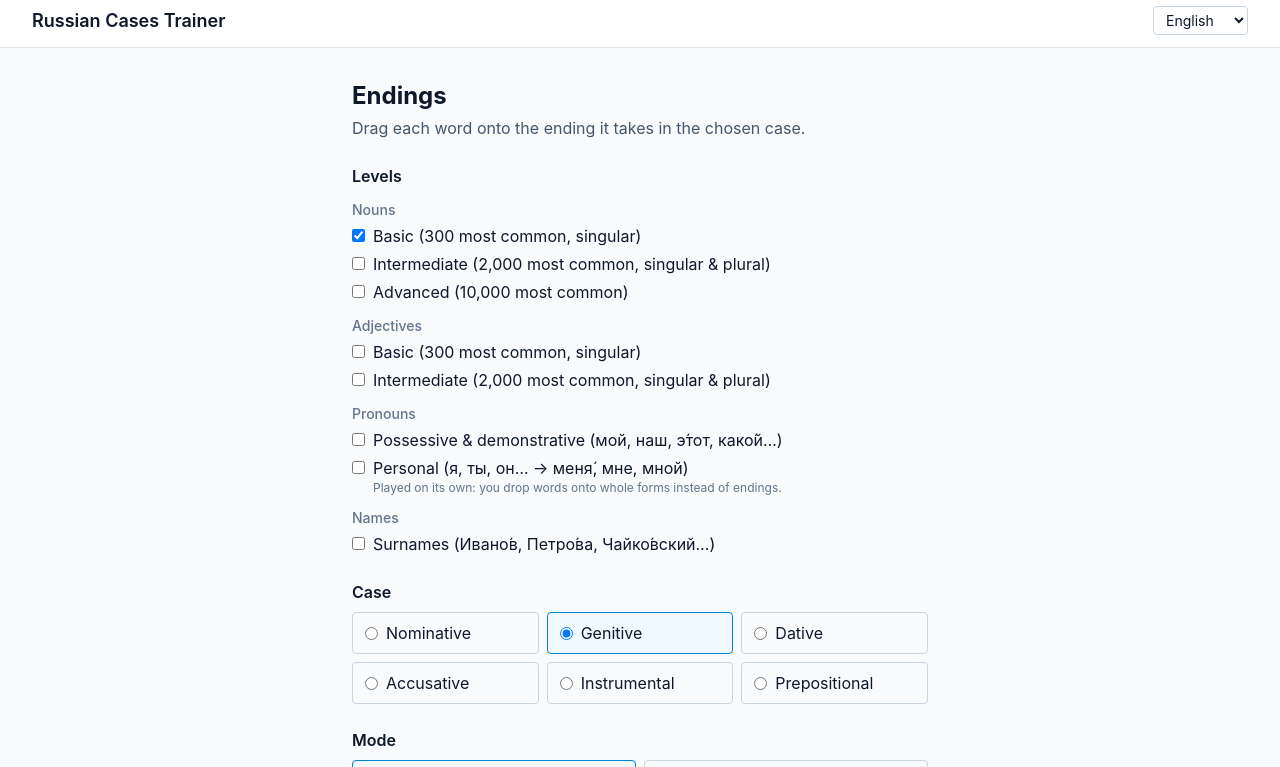
Test: pronunciation › muting silences everything and is remembered
Step 1. Click the radio button labelled "Instrumental" → (566, 683), box [560,676,573,690]
(page scrolled)
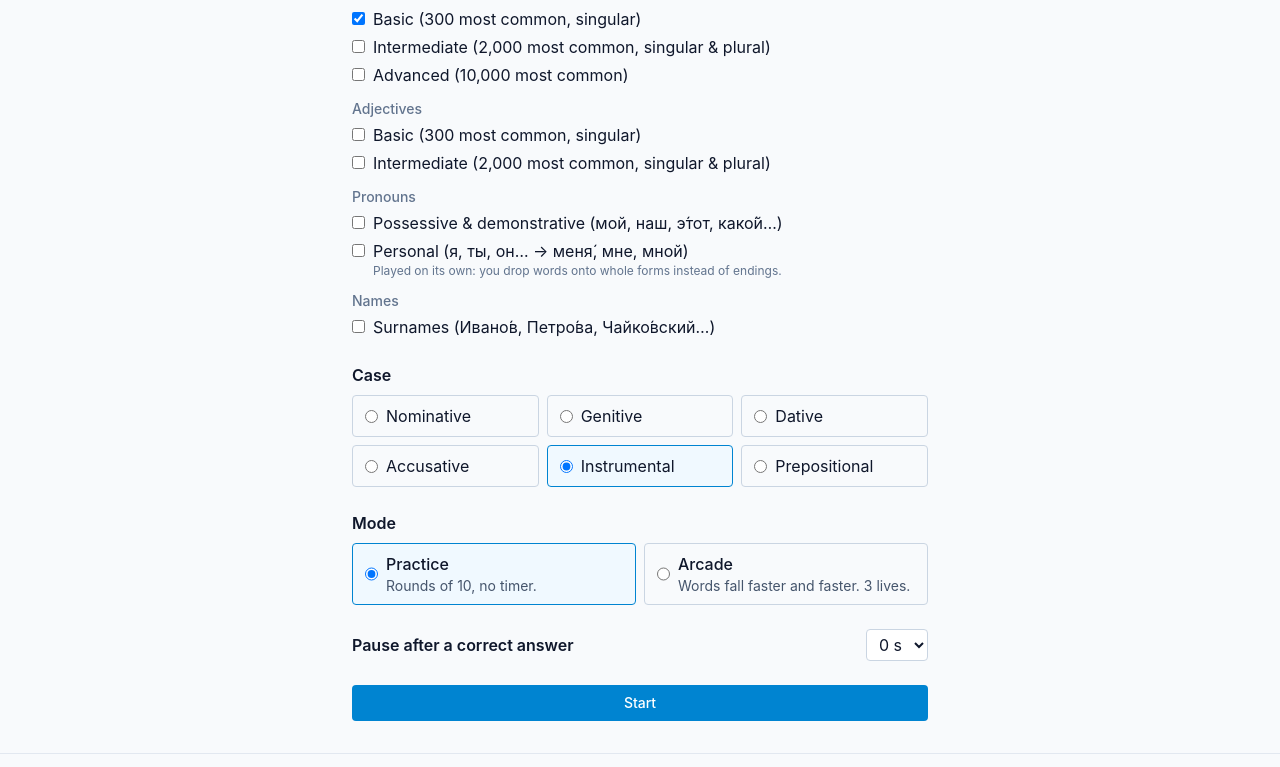
Step 2. Click the button "Start" → (640, 703), box [352,685,928,721]
(page scrolled)
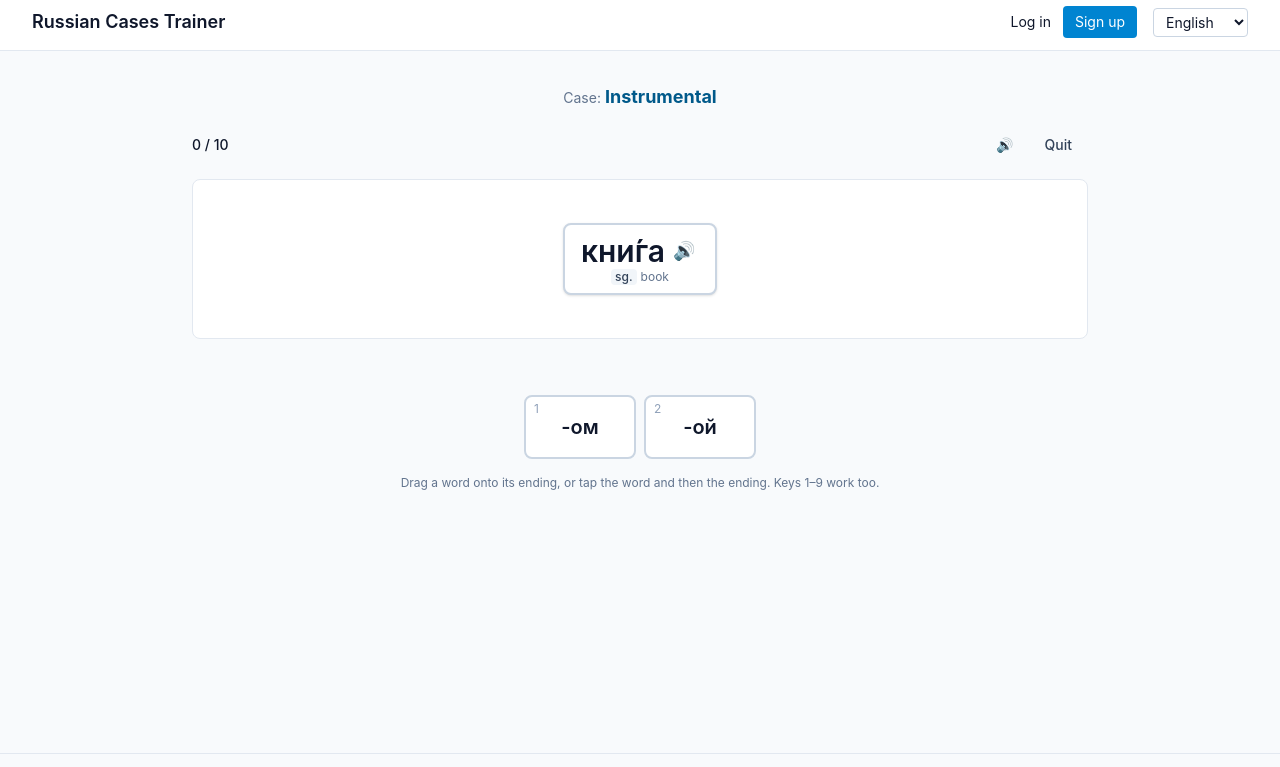
Result: the text "кни́га" is shown at [581,233,665,269]
Step 3. Click the button named "Mute pronunciation" → (1004, 145), box [980,127,1028,163]
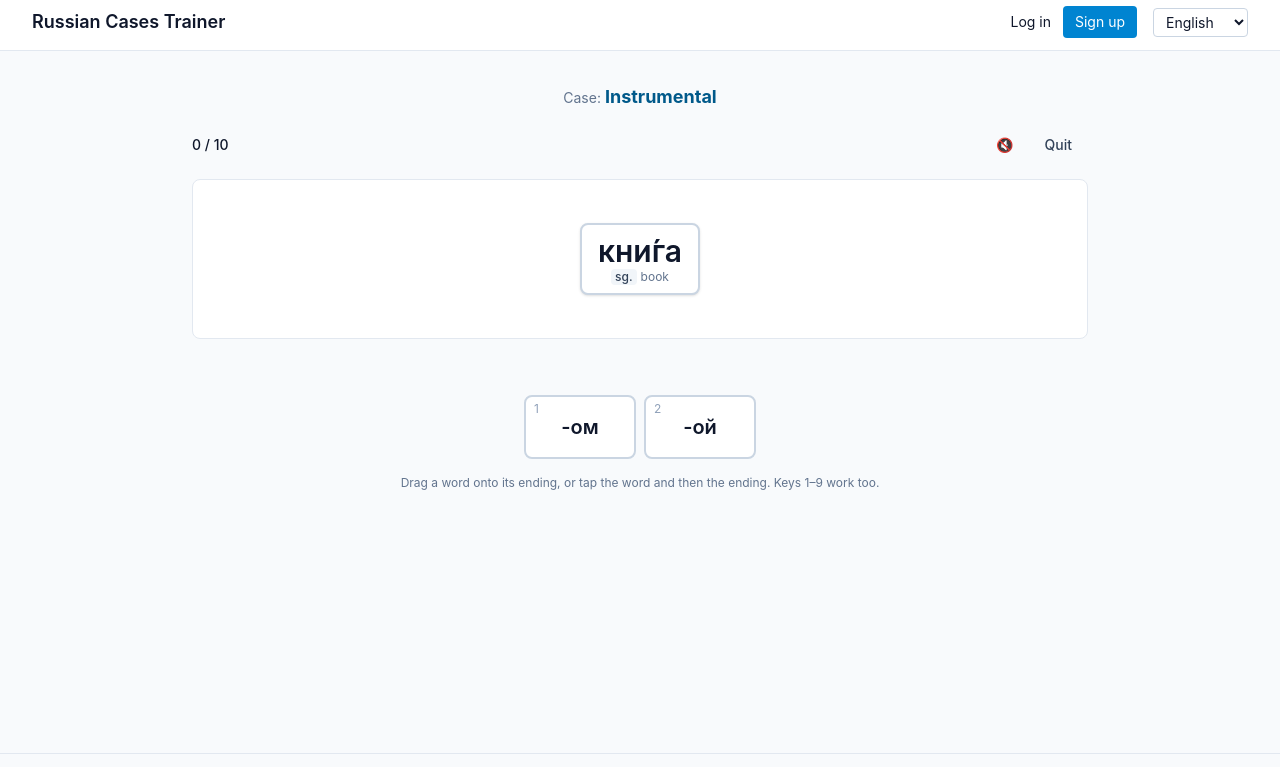
Result: the button "Listen" is gone
Step 4. Click the button "-ой 2" → (700, 427), box [644,395,756,459]
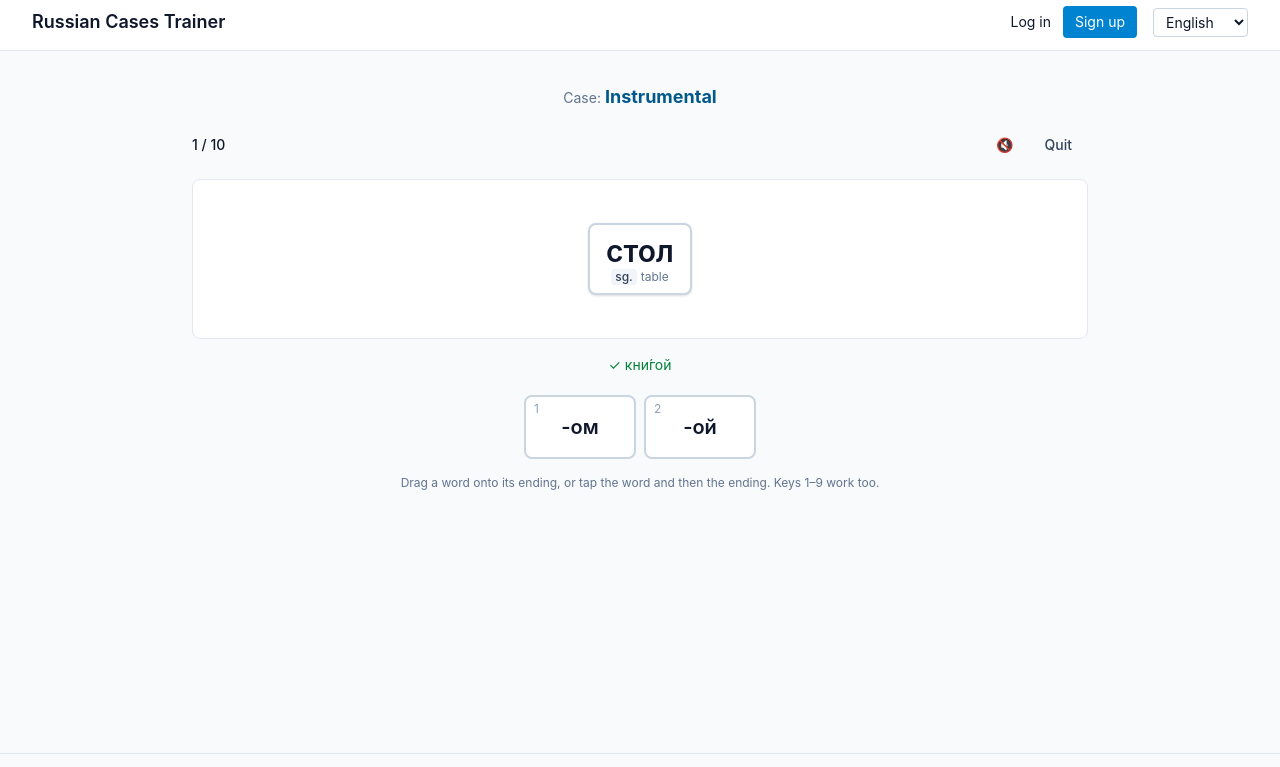
Result: the text "стол" is shown at [606,233,674,269]
